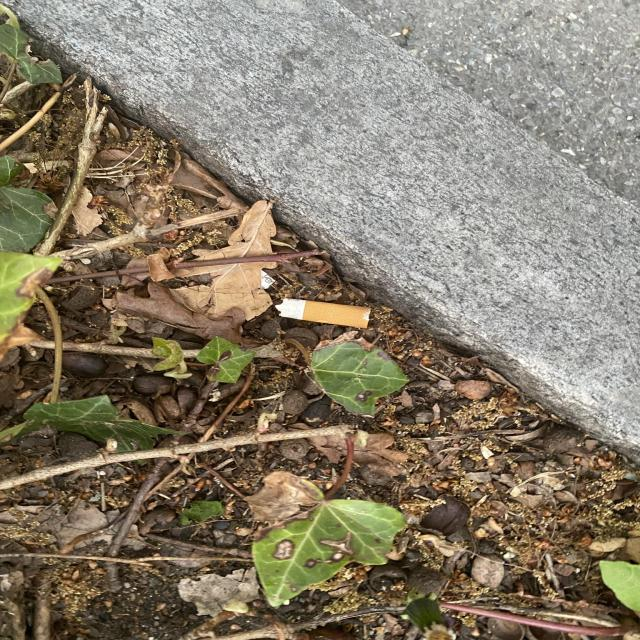other waste: (275, 298, 371, 328)
